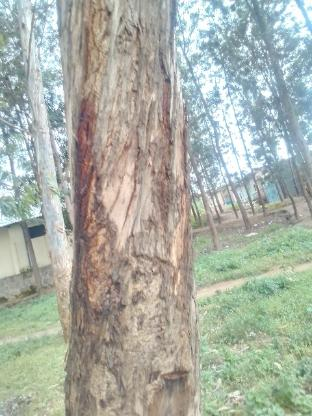tree: (46, 0, 217, 416)
